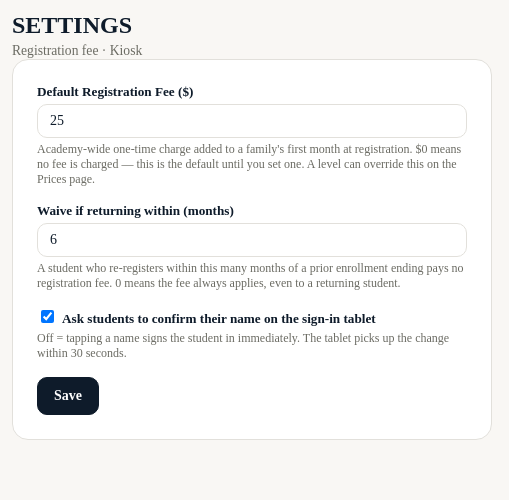
Test: AdminSettingsPage › shows a client-side error and never submits for a negative fee
The width and height of the screenshot is (509, 500).
Replace the text in the number field labelled "Default Registration Fee ($)" with "-5" at (252, 121), box [37,104,467,138]
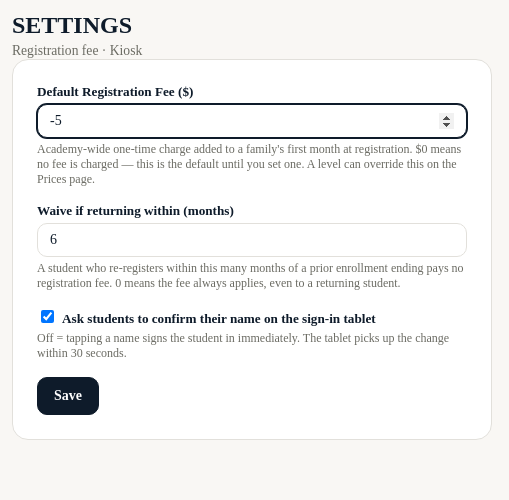
Click the button "Save".
click(68, 396)  # box [37,377,99,415]
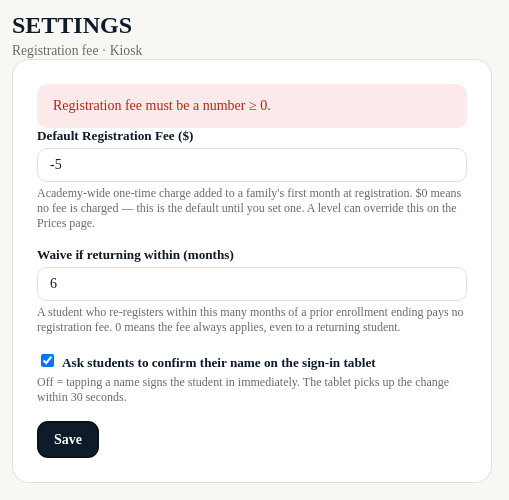
Expected: the text "Registration fee must be a number ≥ 0." is shown, [37,84,467,128]
